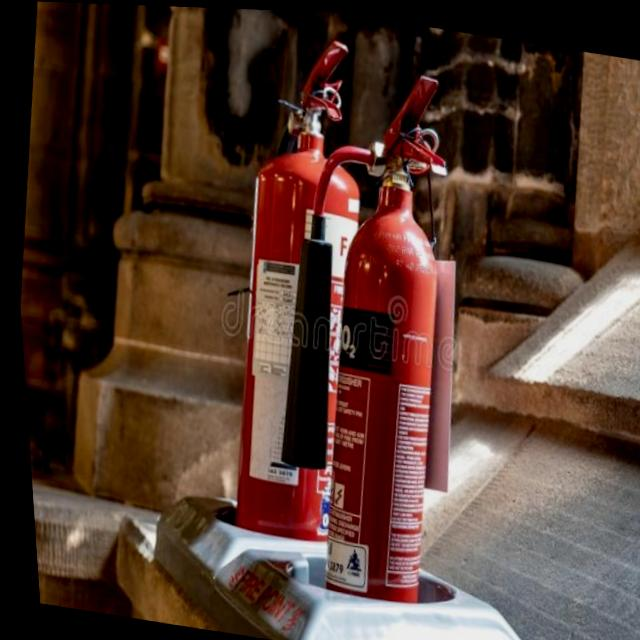FireExtinguisher: (229, 42, 502, 640), (182, 18, 401, 589)
